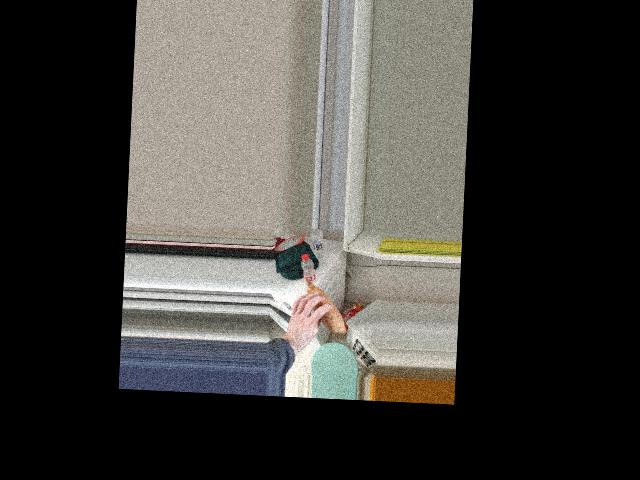sweet_potato: (293, 283, 346, 327)
